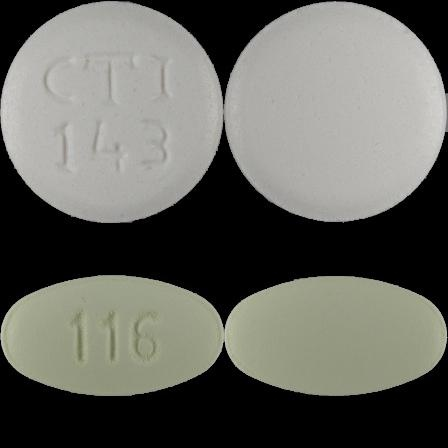50268-512: (0, 0, 224, 224)
